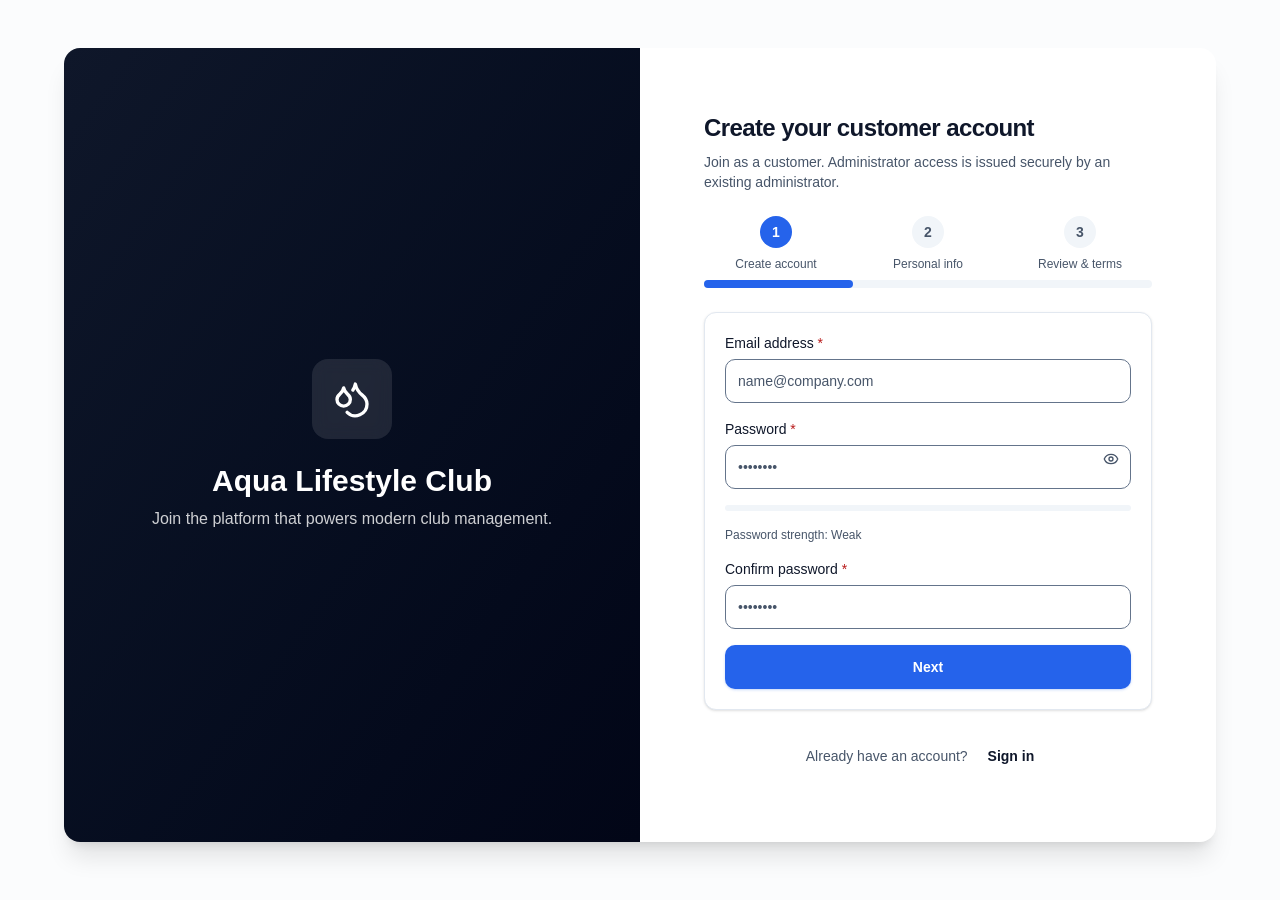
Test case: SignupForm › shows validation errors on the first step
Step 1. Click the button "Next" → (928, 667), box [725, 645, 1131, 689]
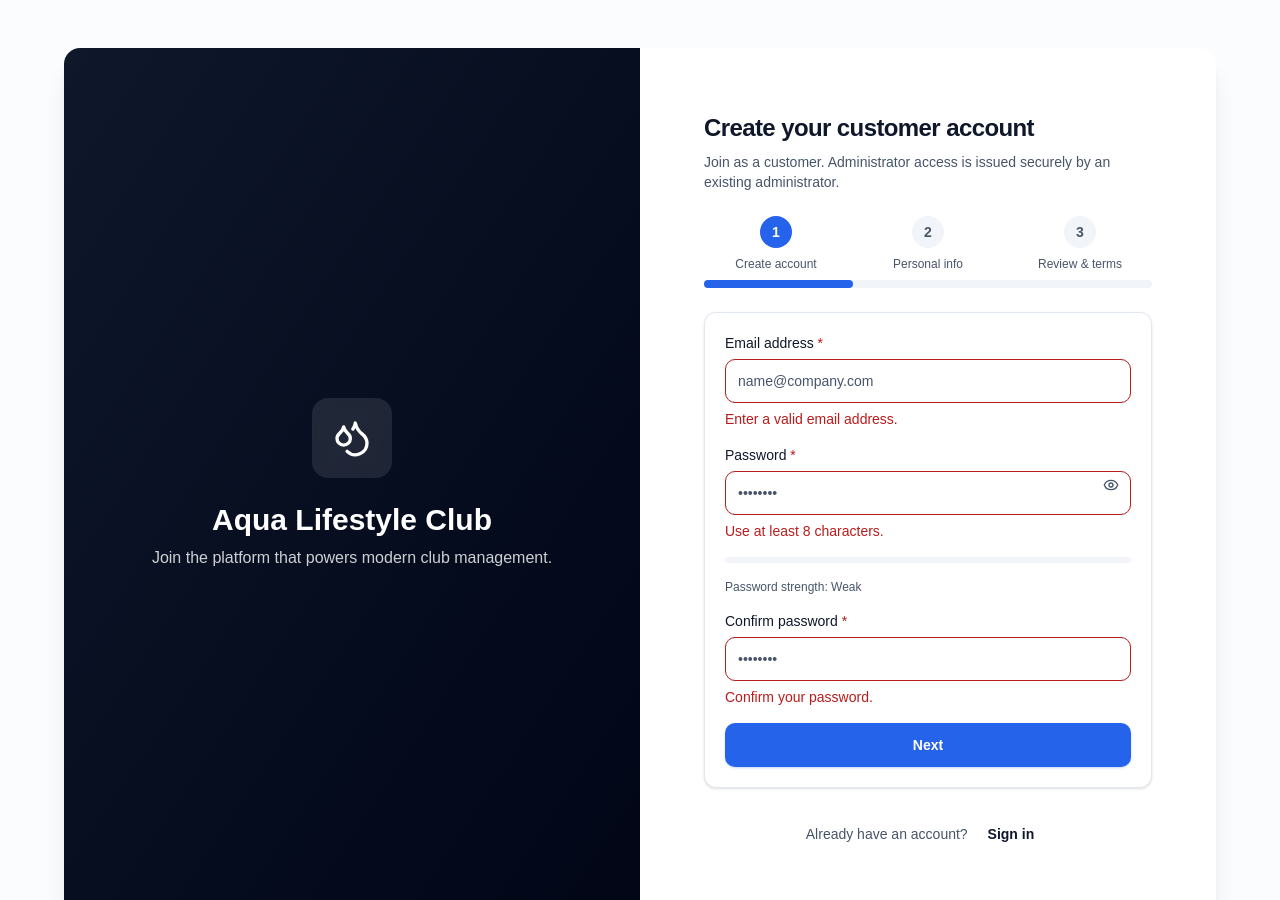
Expected: the text "Enter a valid email address." is shown, [725, 411, 898, 427]
Expected: the text "Use at least 8 characters." is shown, [725, 523, 884, 539]
